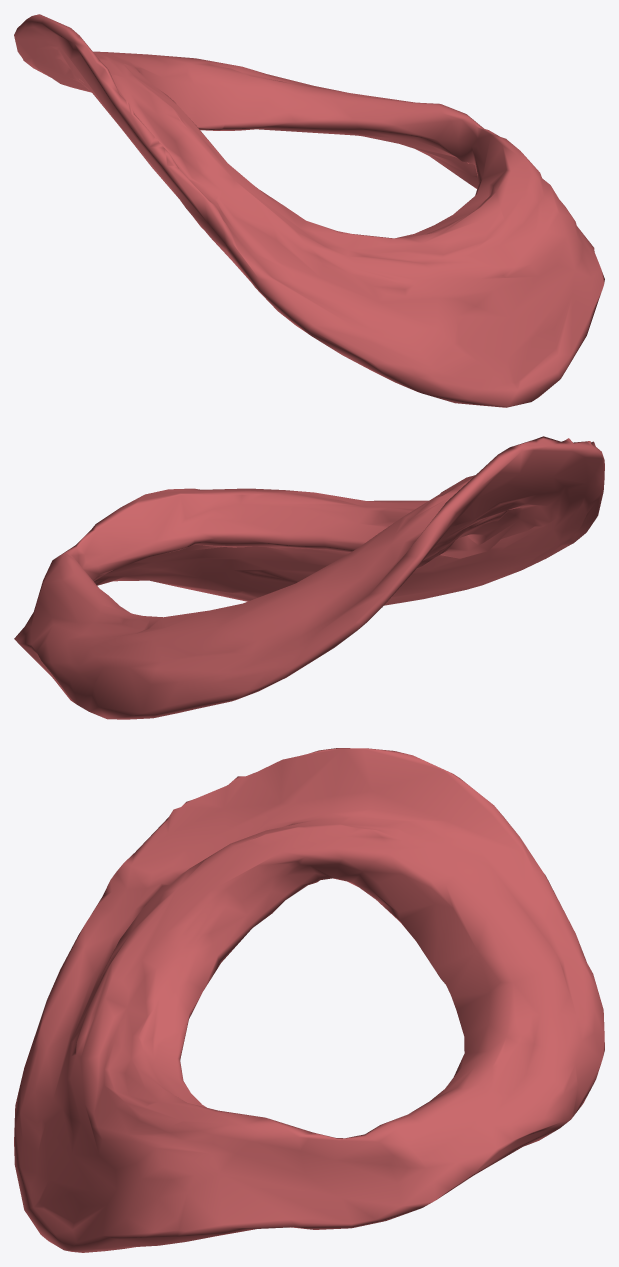
3 views of the same model, one above another, from view 1: azimuth 30°, elevation 25°; view 2: azimuth 150°, elevation 25°; view 3: azimuth 270°, elevation 25° (orthographic). The views are drawn at different scales.
Parts seen in each view (by area): view 1: 右侧眼轮匝肌眶部; view 2: 右侧眼轮匝肌眶部; view 3: 右侧眼轮匝肌眶部.
Boxes of the visible parts, x1,y1,x2,y2 form: 右侧眼轮匝肌眶部: (14, 14, 604, 407); 右侧眼轮匝肌眶部: (14, 436, 604, 719); 右侧眼轮匝肌眶部: (14, 748, 604, 1252).
Bounding box in the file's own units: 0.0652 × 0.0462 × 0.0732.
